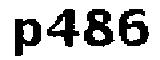4: (46, 8, 82, 50)
6: (116, 7, 149, 49)
8: (83, 6, 114, 50)
p: (10, 17, 43, 60)
